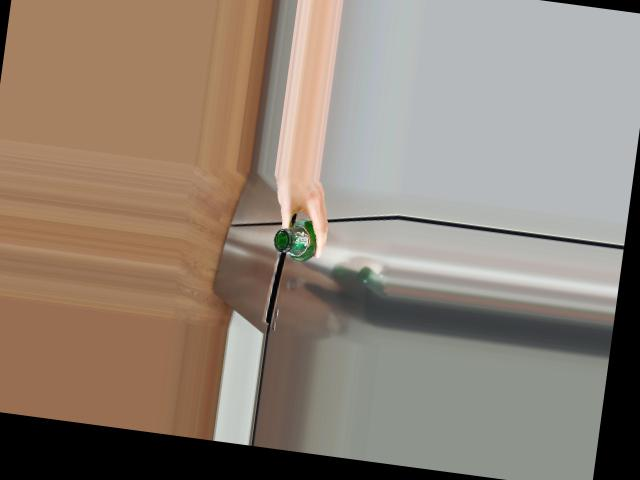beer: (271, 217, 319, 263)
